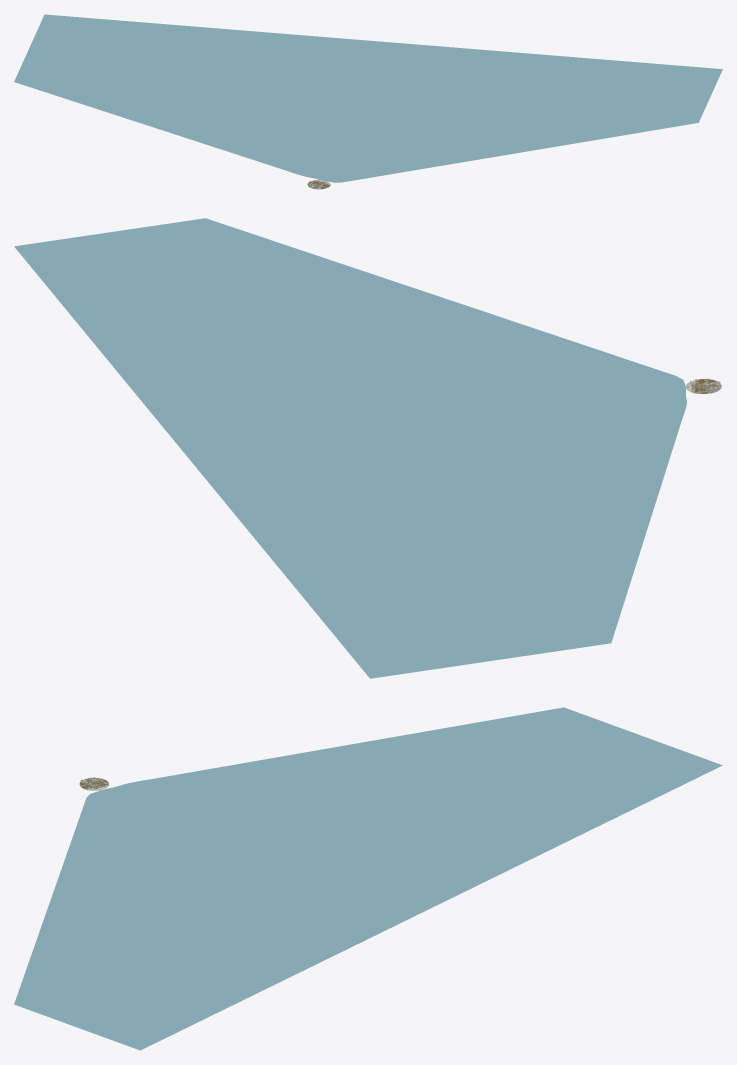
File: street-context-20261019.glb
The picture shows the model from 3 angles, top to bottom: view 1: azimuth 30°, elevation 25°; view 2: azimuth 150°, elevation 25°; view 3: azimuth 270°, elevation 25°; orthographic projection. The views are drawn at different scales.
Parts seen in each view (by area): view 1: Entorno del proyecto; view 2: Entorno del proyecto; view 3: Entorno del proyecto.
Boxes of the visible parts, x1=… form: Entorno del proyecto: x1=14, y1=14, x2=722, y2=189; Entorno del proyecto: x1=14, y1=218, x2=721, y2=678; Entorno del proyecto: x1=14, y1=707, x2=722, y2=1050.
Size of the model in its own units: 14575 by 37.54 by 12724.
47 materials, 11 textured.
